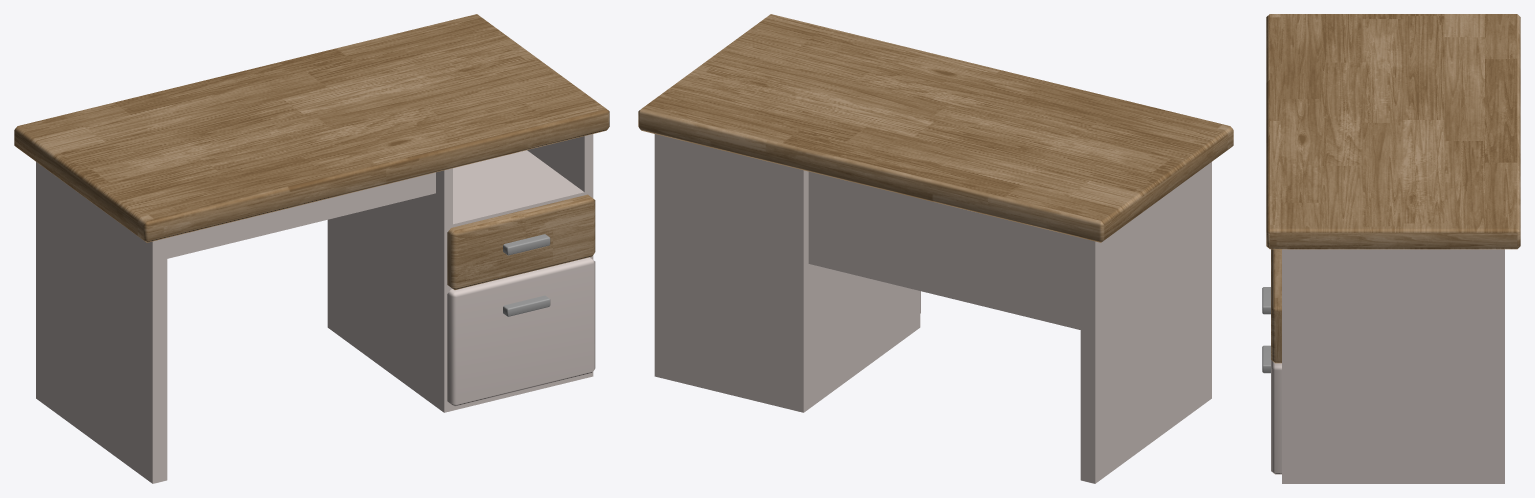
Rendered from work_table_015.fbx.
The picture shows the model from 3 angles, left to right: view 1: azimuth 30°, elevation 25°; view 2: azimuth 150°, elevation 25°; view 3: azimuth 270°, elevation 25°; orthographic projection. The views are drawn at different scales.
Visible parts, largest first — view 1: work_table_015; view 2: work_table_015; view 3: work_table_015.
Part boxes in pixels (left/top/right/bottom): work_table_015: left=14, top=14, right=609, bottom=483; work_table_015: left=638, top=14, right=1233, bottom=483; work_table_015: left=1262, top=14, right=1520, bottom=483.
Bounding box in the file's own units: 165 × 82.83 × 91.5.
